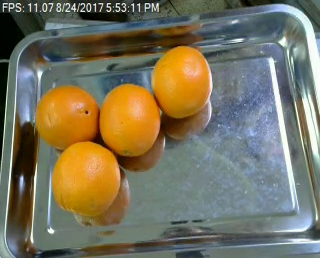Orange: (52, 141, 121, 216), (151, 45, 213, 118), (99, 82, 159, 155), (34, 85, 99, 148)
